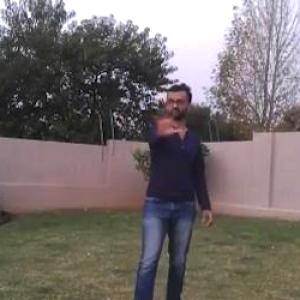follow_hand: (144, 94, 184, 138)
